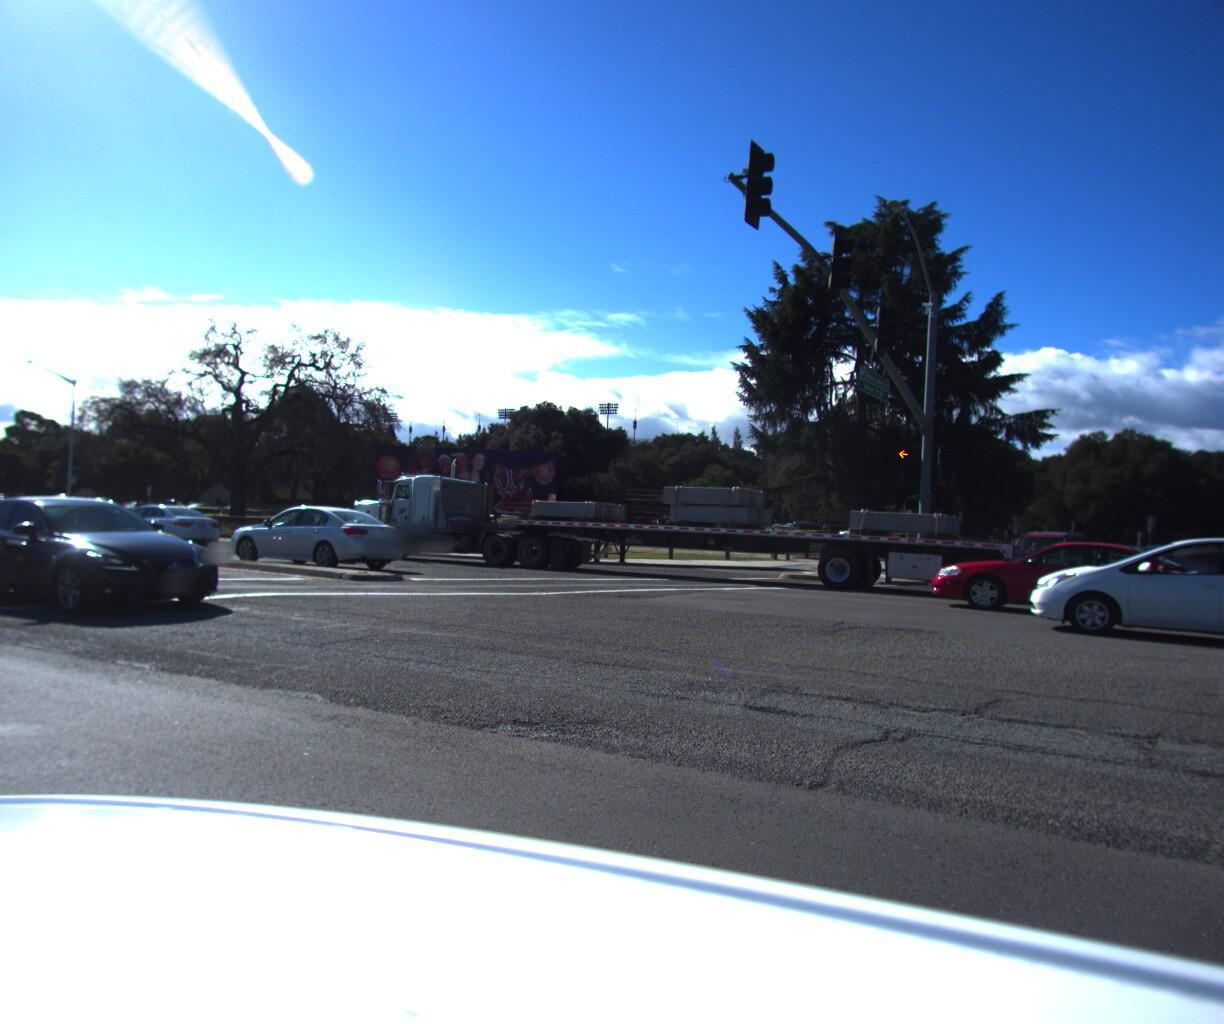car: (920, 528, 1224, 637), (0, 493, 229, 627), (1039, 525, 1224, 662), (219, 499, 416, 569), (986, 521, 1103, 585), (88, 495, 226, 545), (1108, 539, 1218, 592)
truck: (323, 465, 1057, 639)
